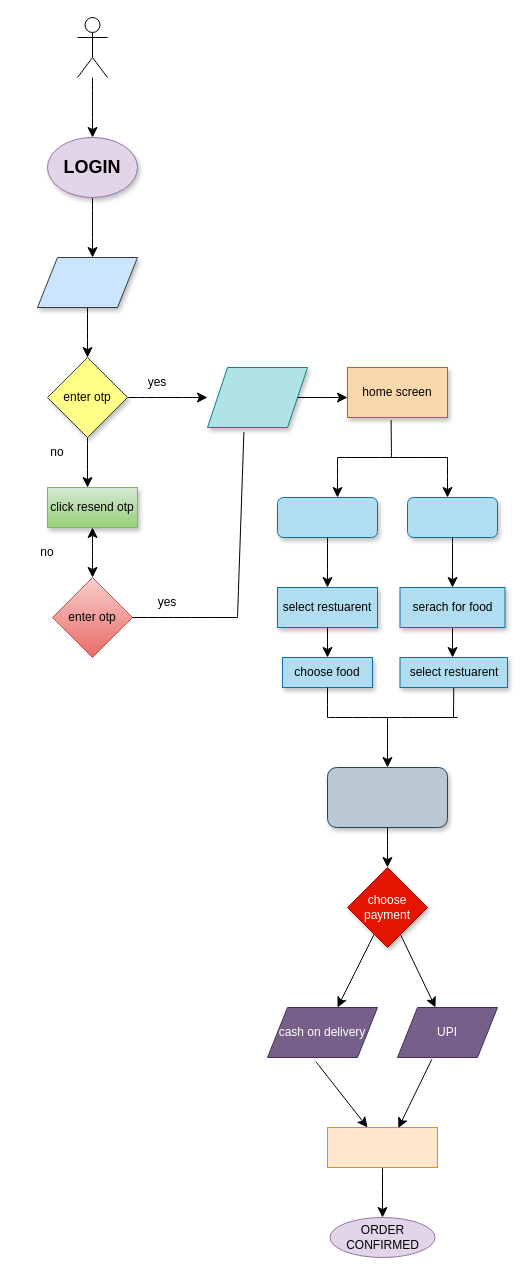
Some shapes in this 531 by 1275 pixel diagram are drawn without their labels. The shapes that lost their labels are listed below. From the top down, each one's centre as x and y in pixels, then its label:
point (92, 47): Actor
point (88, 283): Enter number
point (258, 398): enter your address
point (328, 518): menu card
point (453, 518): search bar
point (388, 798): add to cart
point (382, 1147): Place order
